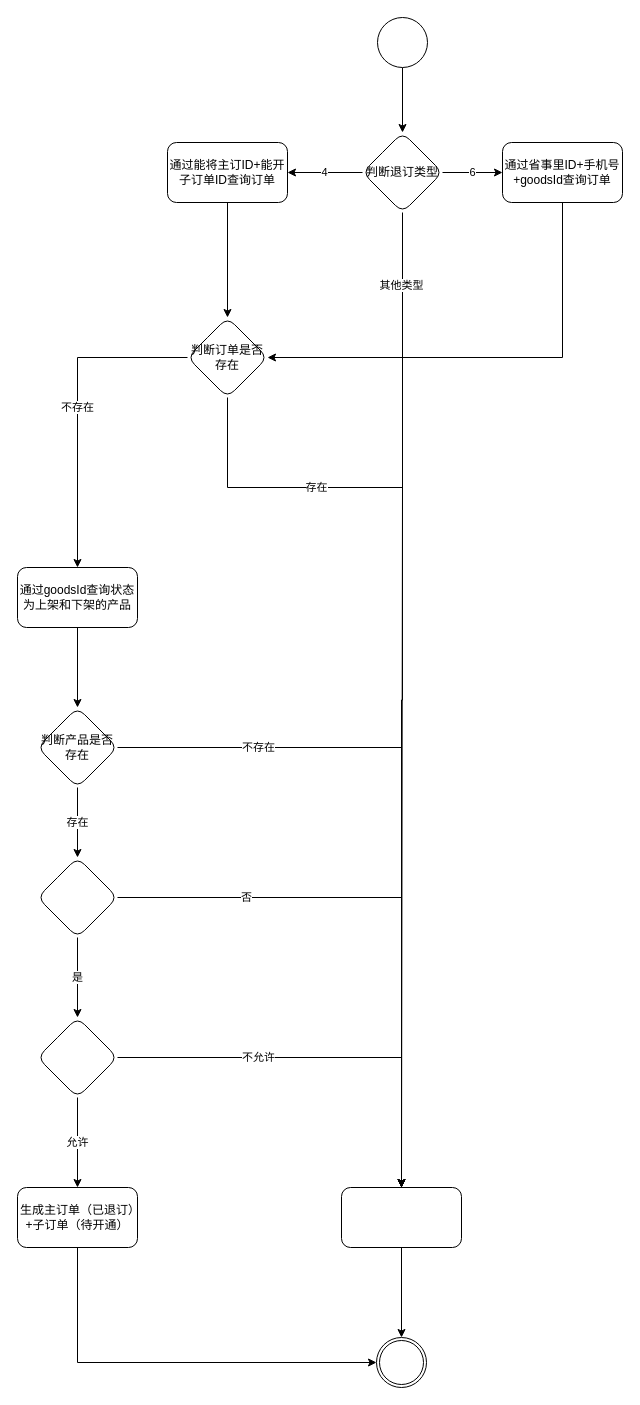
This 640x1405 diagram has some shape labels left out. Each missing label, with the centre of its shape:
判断产品是否是包月产品: the point at 77,897
判断产品的退订规则是否允许退订: the point at 77,1057
落入文件中: the point at 401,1217
